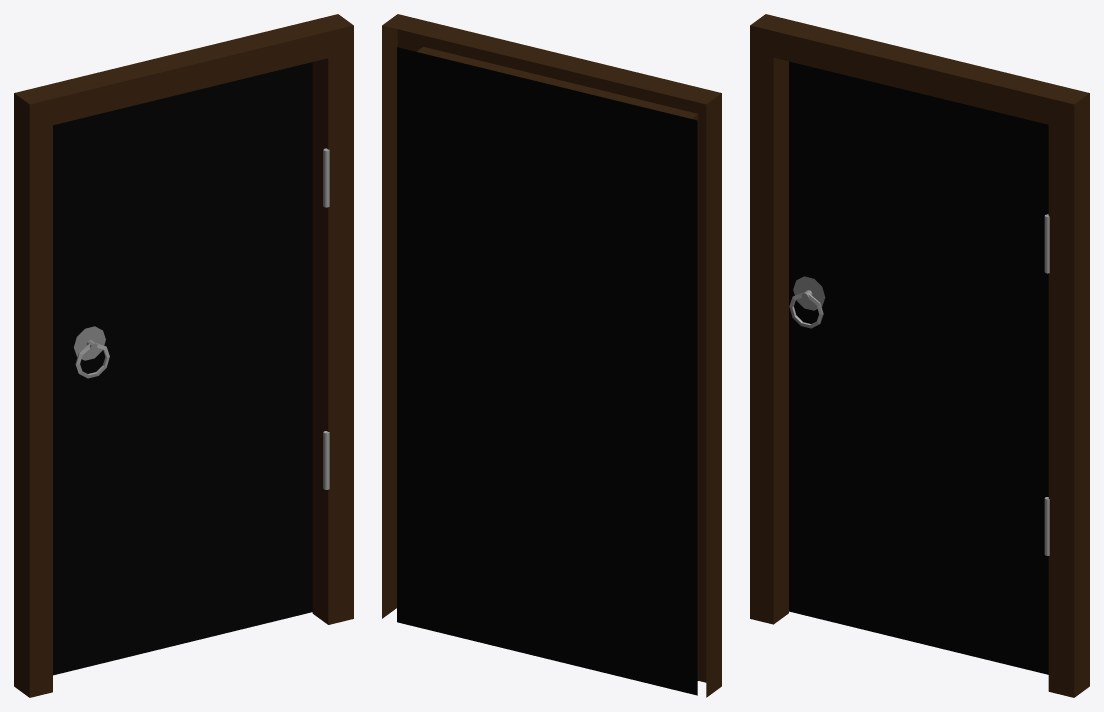
Rendered from Door_06.fbx.
3 views of the same model, side by side, from view 1: azimuth 30°, elevation 25°; view 2: azimuth 150°, elevation 25°; view 3: azimuth 330°, elevation 25° (orthographic).
Parts seen in each view (by area): view 1: doorplane, DoorFrame, DoorKncoker; view 2: doorplane, DoorFrame; view 3: doorplane, DoorFrame, DoorKncoker.
Boxes of the visible parts, box(x1,y1,x2,y2) form: doorplane: box(53, 62, 312, 675); DoorFrame: box(14, 14, 353, 697); DoorKncoker: box(74, 148, 329, 489); doorplane: box(397, 47, 697, 695); DoorFrame: box(382, 14, 721, 697); doorplane: box(789, 61, 1048, 674); DoorFrame: box(750, 14, 1089, 697); DoorKncoker: box(789, 214, 1049, 555).
Size of the model in its own units: 114 by 200 by 12.97.
